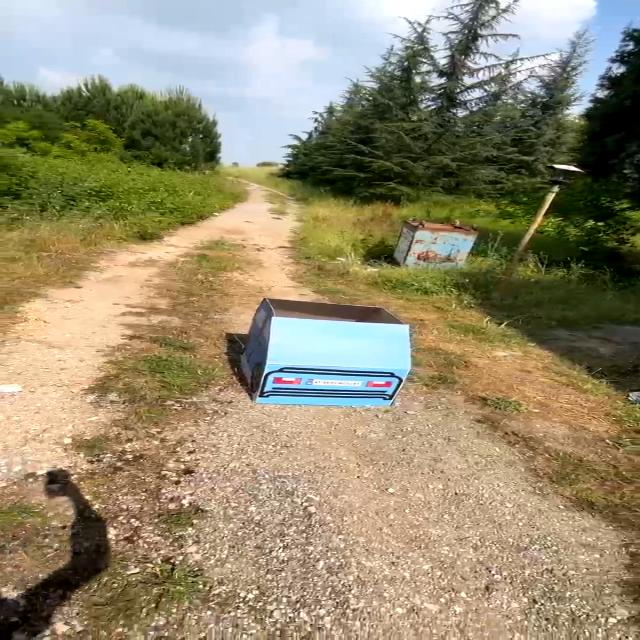blue_car: (212, 289, 435, 409)
